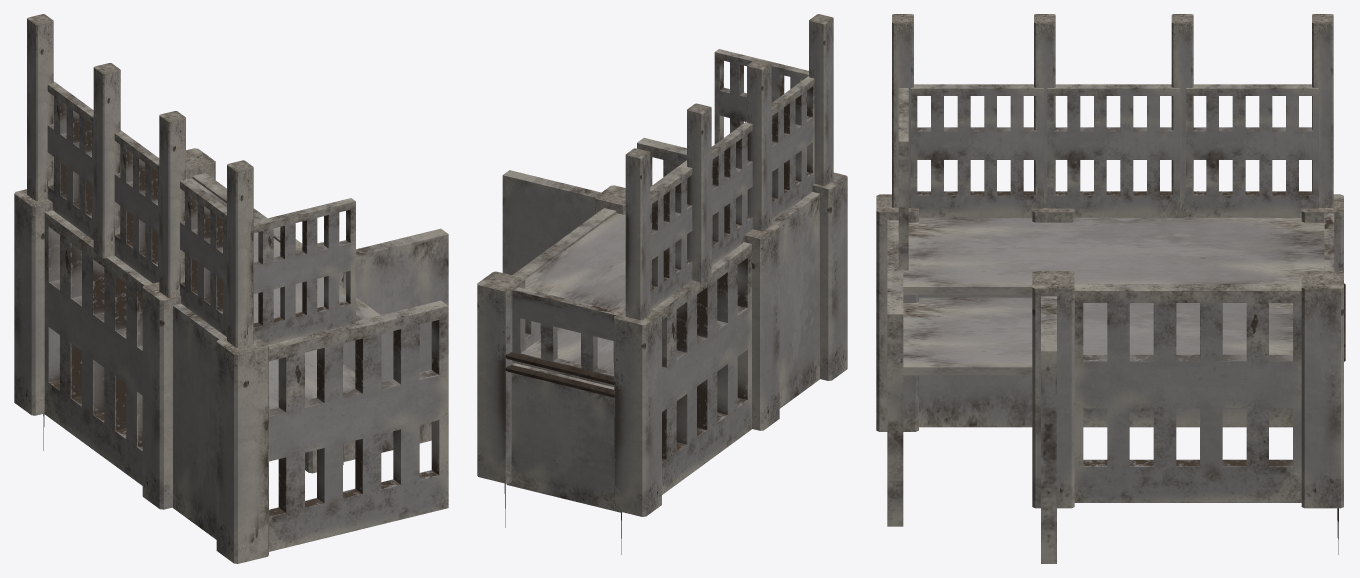
File: Building 2_fine.fbx
3 views of the same model, side by side, from view 1: azimuth 30°, elevation 25°; view 2: azimuth 150°, elevation 25°; view 3: azimuth 270°, elevation 25° (orthographic). The views are drawn at different scales.
Parts seen in each view (by area): view 1: Cube.045; view 2: Cube.045; view 3: Cube.045.
Part boxes in pixels (x1=…): Cube.045: x1=14, y1=14, x2=448, y2=563; Cube.045: x1=477, y1=14, x2=847, y2=554; Cube.045: x1=876, y1=14, x2=1345, y2=563.
Size of the model in its own units: 1094 by 1595 by 1453.
2 materials, 2 textured.
